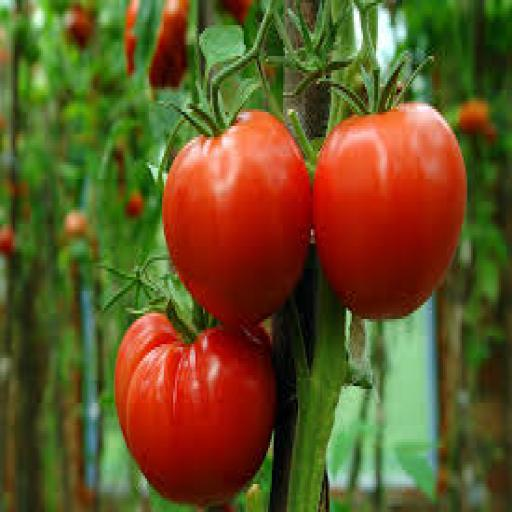tomato: (313, 104, 467, 318), (162, 112, 310, 324), (116, 314, 275, 506), (149, 0, 188, 89), (64, 6, 94, 50), (459, 98, 489, 134), (222, 0, 253, 25), (66, 210, 89, 240), (125, 191, 145, 218), (0, 227, 14, 257), (483, 121, 498, 145)
